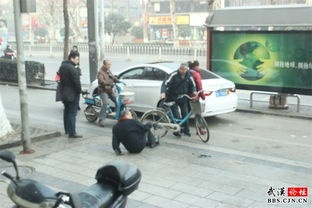falling: (106, 104, 164, 155)
